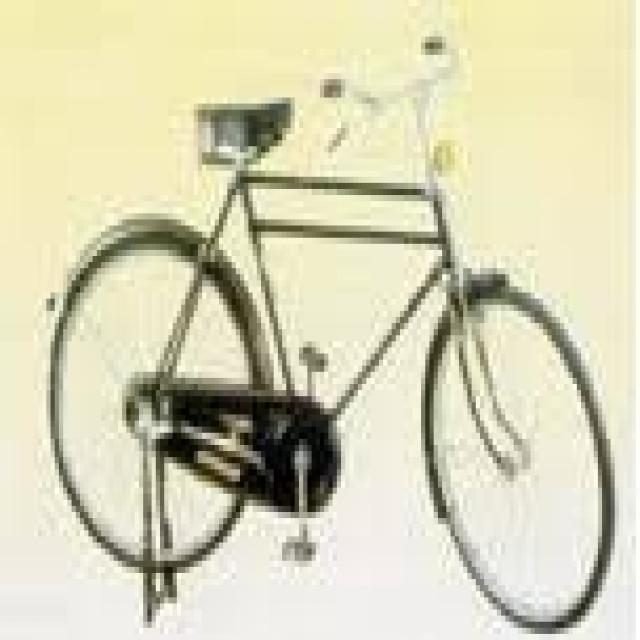bicycle: (47, 56, 619, 640)
